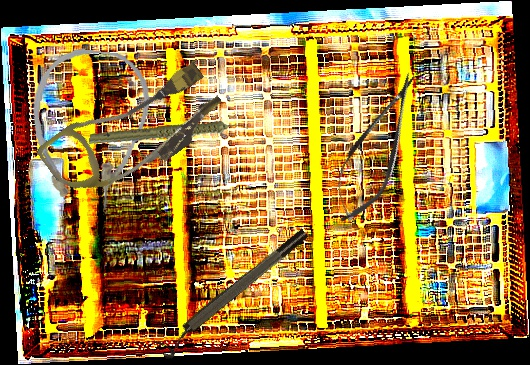Cannula: (34, 44, 232, 220), (21, 44, 156, 214)
Fixation Ring: (152, 225, 316, 362)
Handpiece: (88, 99, 249, 170)
Micro Scissor: (319, 62, 435, 233)
